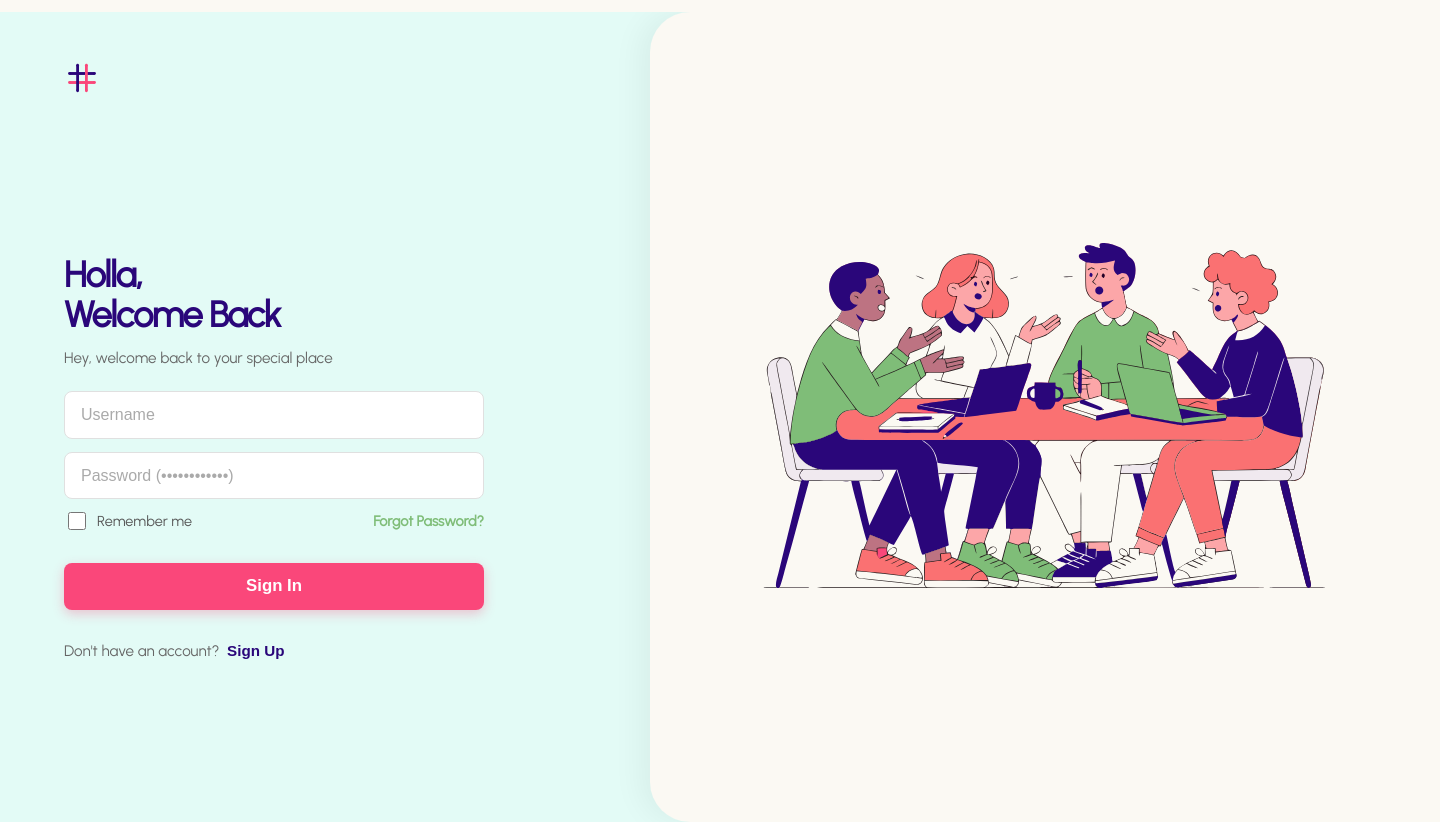
Scenario: LoginPage Component › switches to the registration form when toggled
// Click the toggle link to switch to 'Sign Up'
Click the button "Sign Up" at (256, 650), box [227,642,284,659]
(page scrolled)
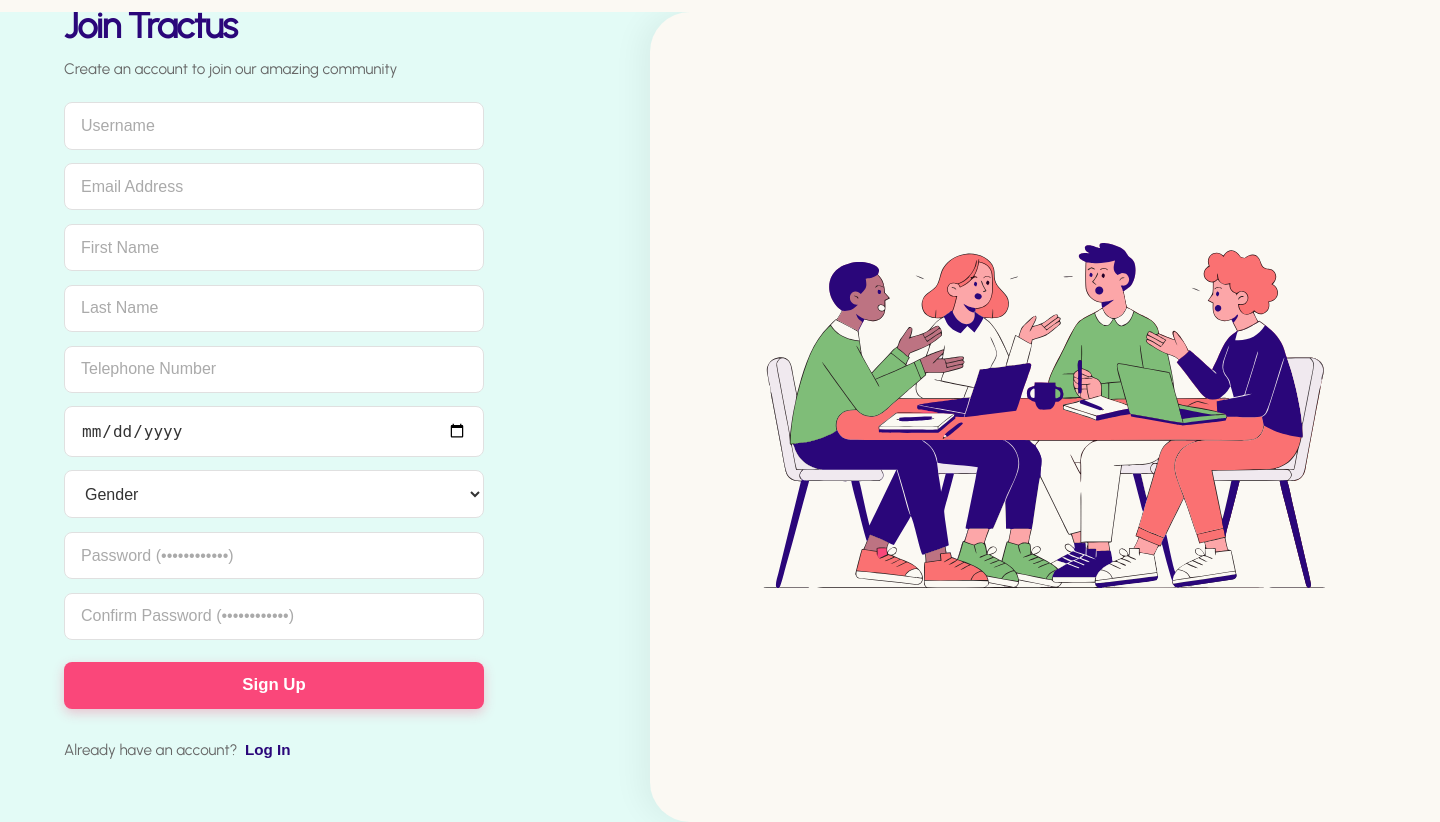
Expected: the field with placeholder "Email Address" is shown, [64,163,484,210]
Expected: the password field with placeholder "Confirm Password (••••••••••••)" is shown, [64,593,484,640]
